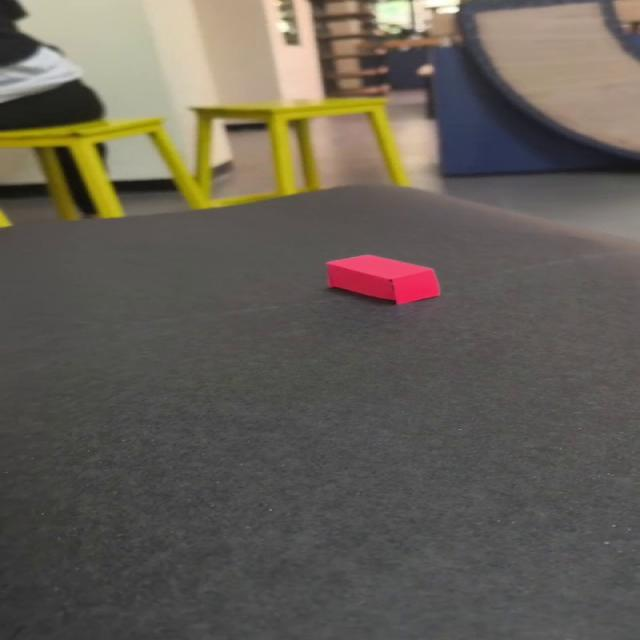red block: (324, 253, 440, 304)
